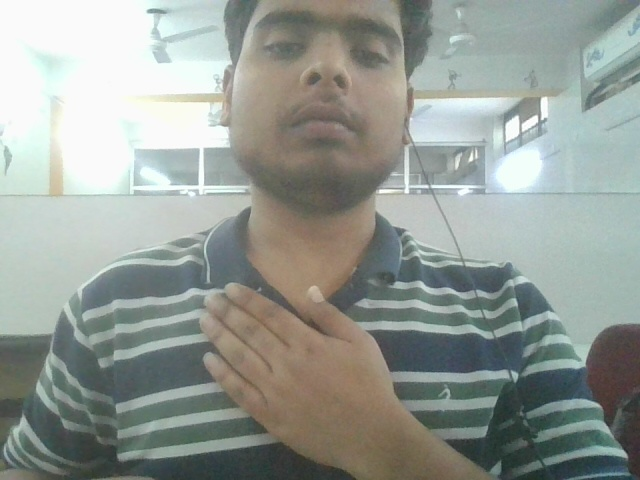Please: (170, 243, 494, 472)
